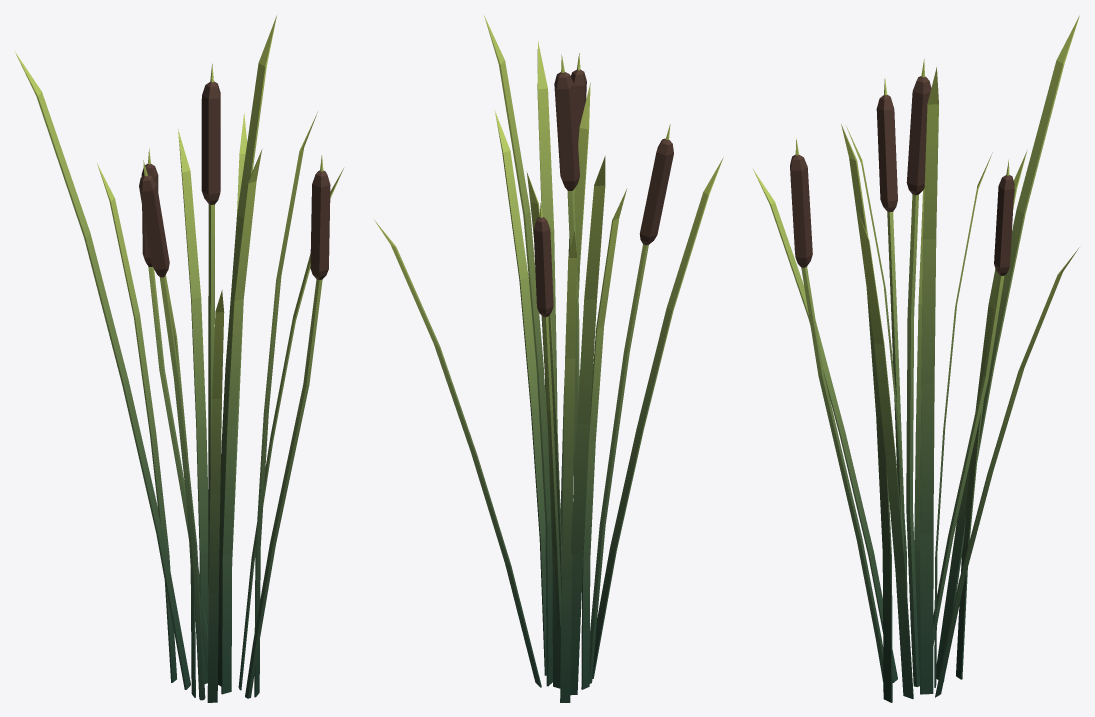
File: Schilfrohr_mid.fbx
The picture shows the model from 3 angles, left to right: view 1: azimuth 30°, elevation 25°; view 2: azimuth 150°, elevation 25°; view 3: azimuth 270°, elevation 25°; orthographic projection.
Visible parts, largest first — view 1: Schilfrohr_mid; view 2: Schilfrohr_mid; view 3: Schilfrohr_mid.
Part boxes in pixels (<box>): Schilfrohr_mid: <box>15,15,344,702</box>; Schilfrohr_mid: <box>374,15,723,702</box>; Schilfrohr_mid: <box>753,15,1079,702</box>.
Size of the model in its own units: 39.69 by 108 by 48.69.
